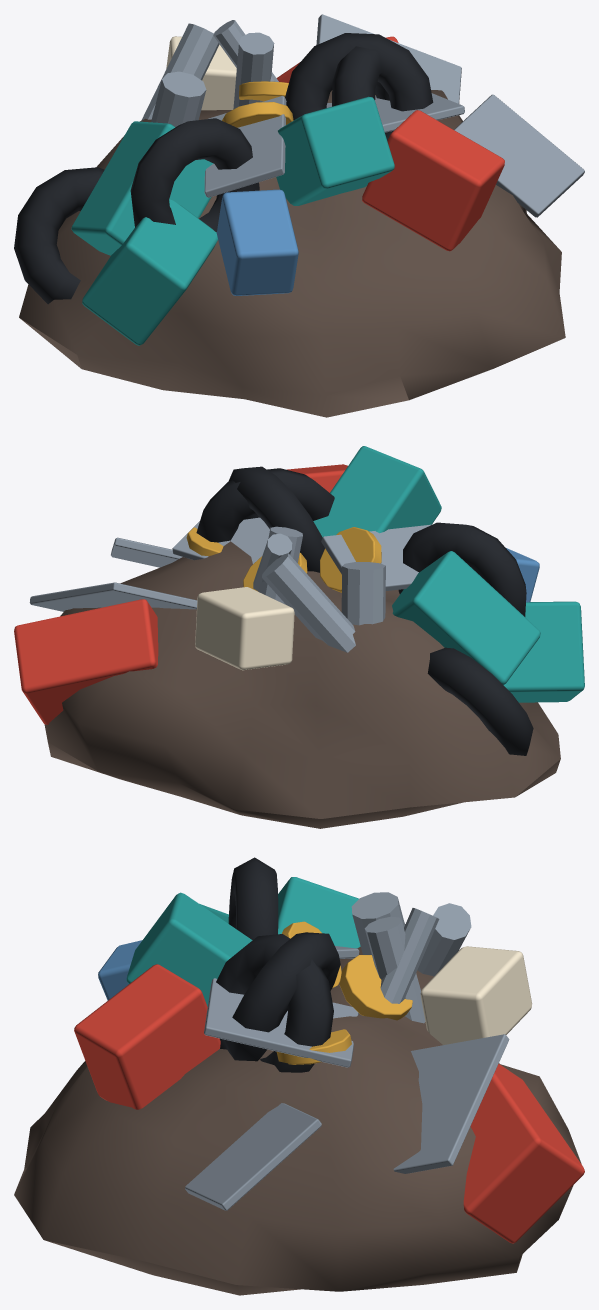
Rendered from junk_pile.glb.
The picture shows the model from 3 angles, top to bottom: view 1: azimuth 30°, elevation 25°; view 2: azimuth 150°, elevation 25°; view 3: azimuth 270°, elevation 25°; orthographic projection. The views are drawn at different scales.
Parts seen in each view (by area): view 1: junk_pile_body; view 2: junk_pile_body; view 3: junk_pile_body.
Part boxes in pixels (bbox=[...]): junk_pile_body: bbox=[14, 14, 584, 417]; junk_pile_body: bbox=[14, 446, 584, 828]; junk_pile_body: bbox=[14, 857, 584, 1295].
Size of the model in its own units: 3.18 by 1.53 by 2.92.
